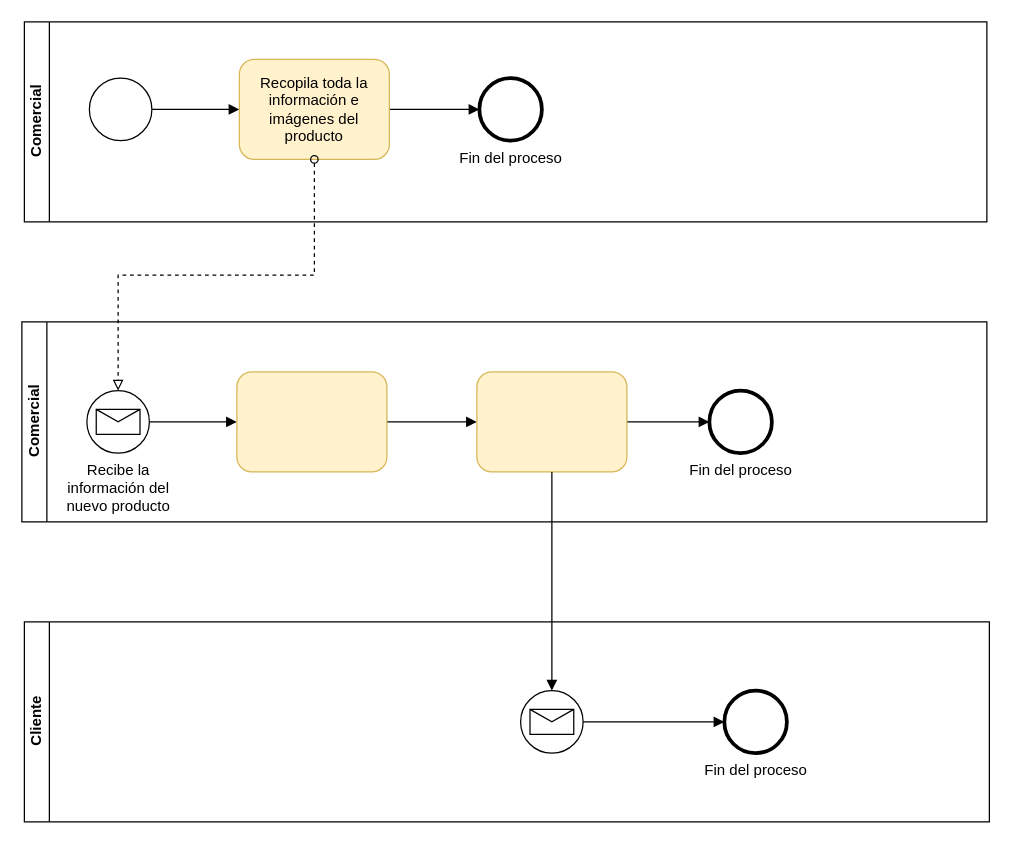
This 1011x844 diagram has some shape labels left out. Each missing label, with the centre of its shape:
Crea un nuevo producto: (120,109)
Envía un correo a todos los contactos del newsletter: (551,421)
Publica una nueva entrada en la aplicación: (311,421)
Recibe un correo con el nuevo producto: (551,721)
